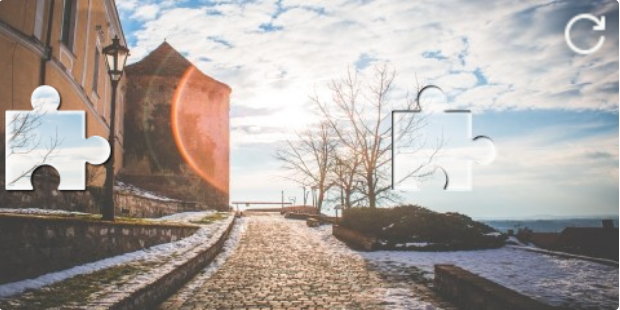target: (391, 85, 498, 192)
